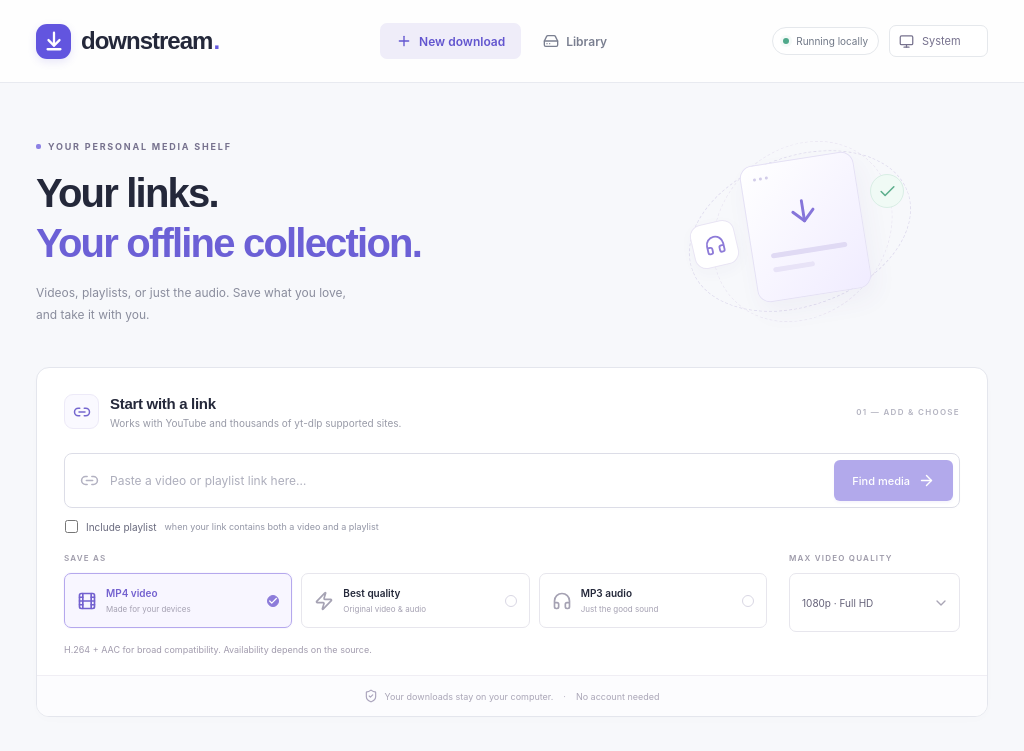
it: API errors are visible and do not leave a preview
This screenshot has width=1024, height=751.
Type "https://example.com/video" into the field named "Video or playlist URL" at point(467, 480), box [110,463,823,498]
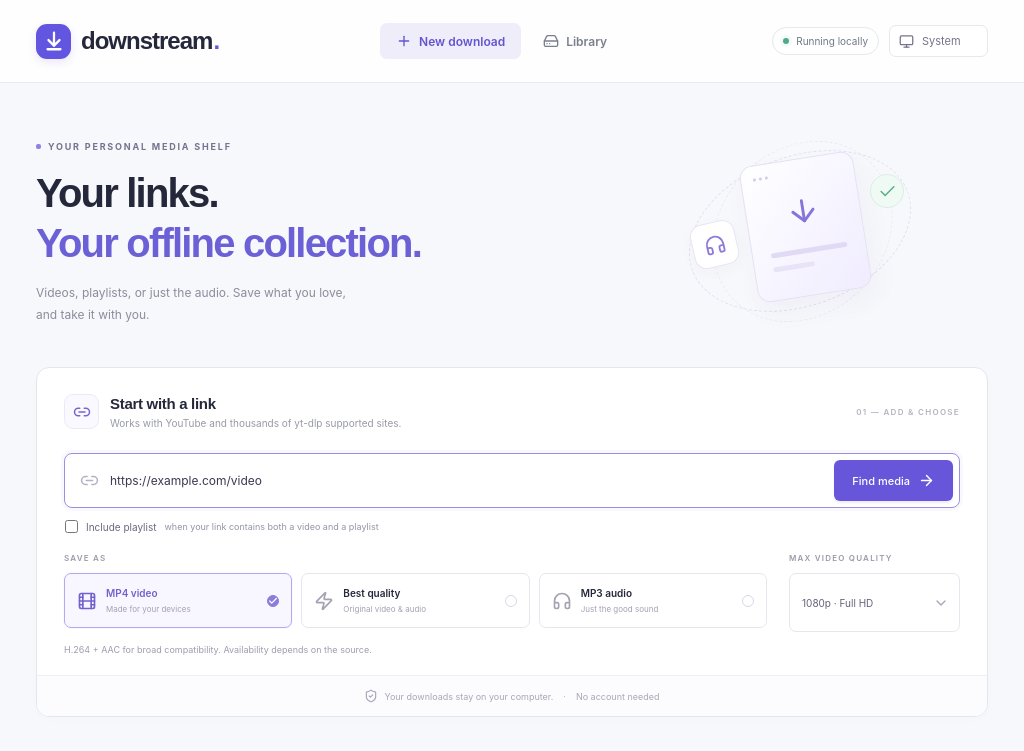
Click the button "Find media" at point(894, 480), box [834,460,953,501]
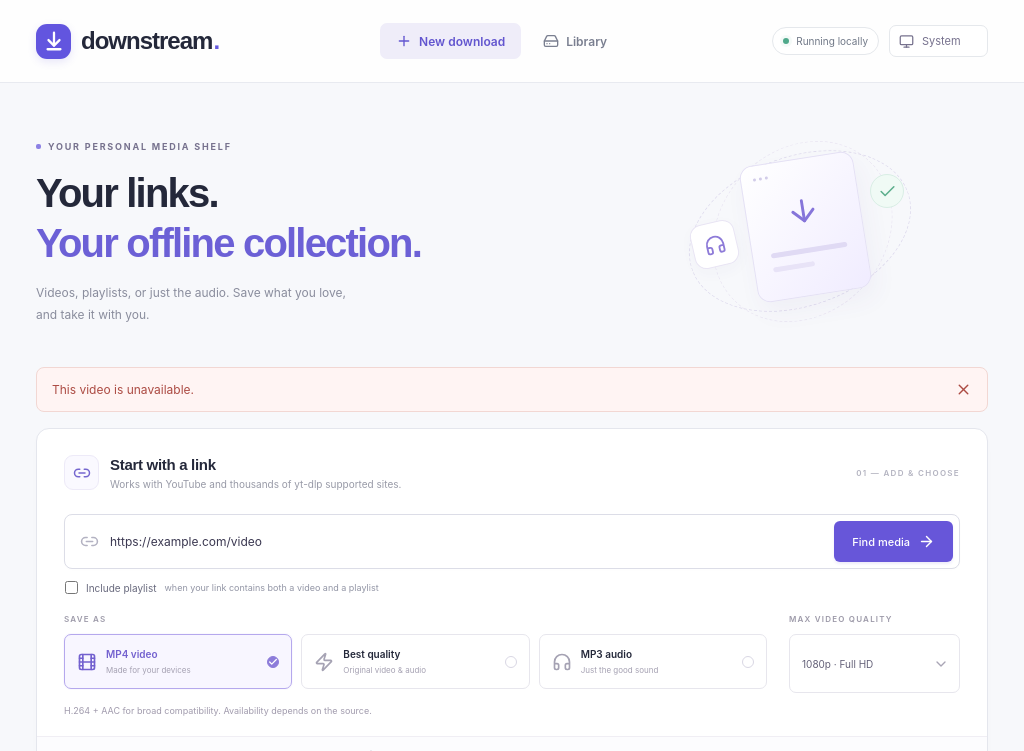
Check: the message reads "This video is unavailable.", box [52,382,194,397]
